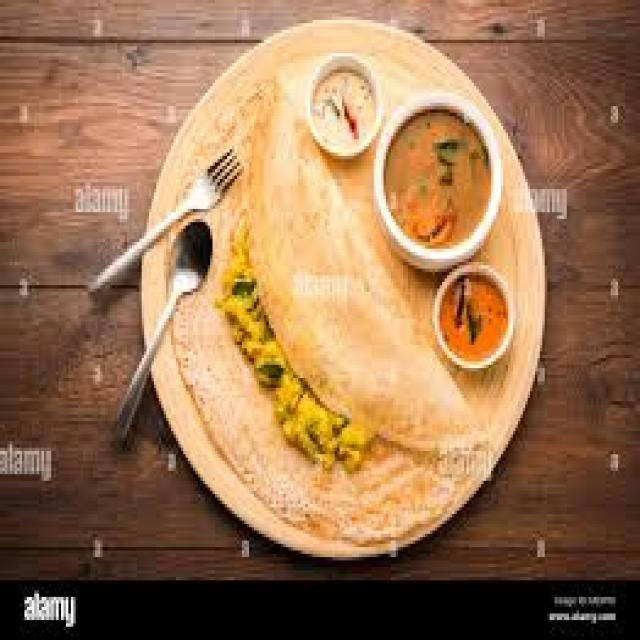DOSA: (166, 74, 499, 551)
